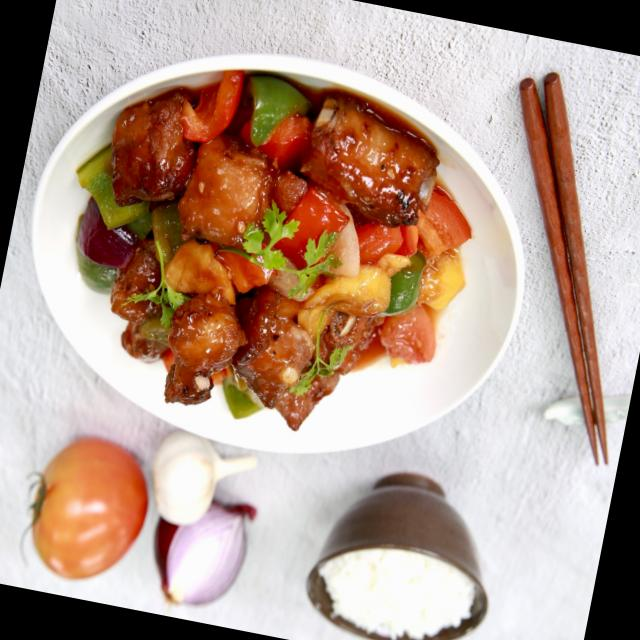suon xao: (78, 72, 470, 431)
